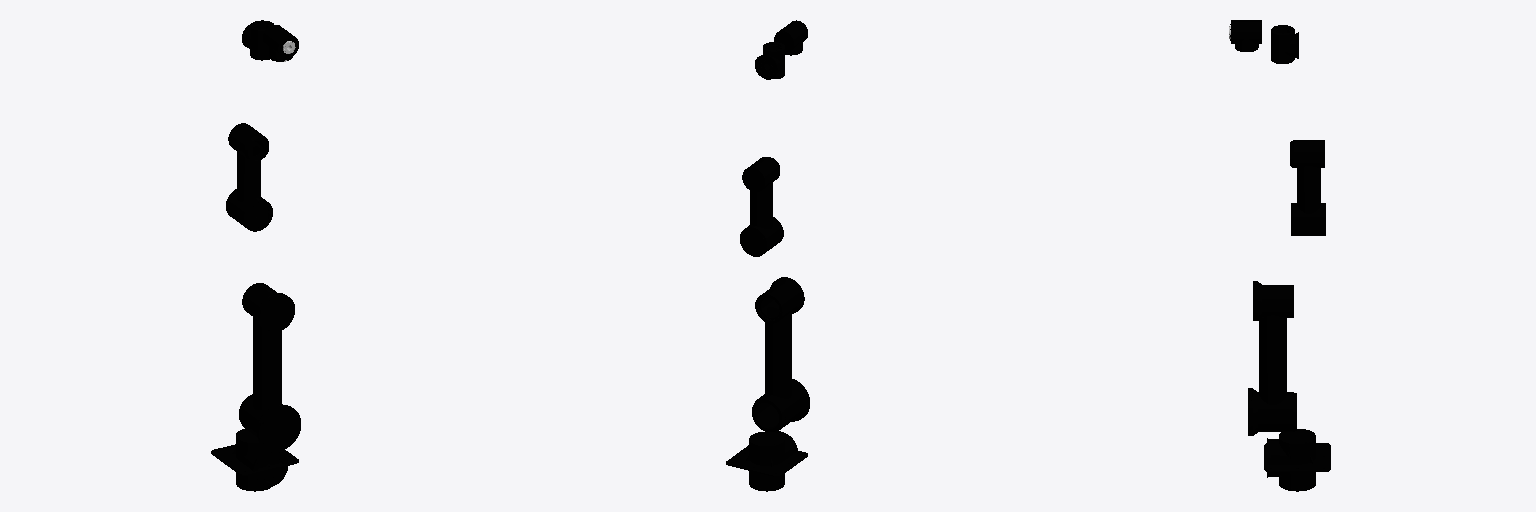
robot.urdf — arm1650:
<?xml version="1.0"?>
<!-- created with Phobos 1.0.1 "Capricious Choutengan" -->
  <robot name="arm1650">

    <link name="world"/>
    <joint name="world_fixed" type="fixed">
      <origin xyz="0.0 0.0 0.0" rpy="0 0 0"/>
      <parent link="world"/>
      <child link="Base_link"/>
    </joint>


    <link name="tool"/>

    <joint name="tool_frame" type="fixed">
      <origin xyz="0.0 0.0 0.0" rpy="1.57 0 0"/>
      <parent link="Link6"/>
      <child link="tool"/>
    </joint>

    <link name="Base_link">
      <inertial>
        <origin xyz="0 0 0" rpy="0 0 0"/>
        <mass value="4.021"/>
        <inertia ixx="0.01299" ixy="0" ixz="0" iyy="0.01299" iyz="0" izz="0.02208"/>
      </inertial>
      <visual name="base_link">
        <origin xyz="0 0 0" rpy="0 0 0"/>
        <geometry>
          <mesh filename="package://arm1650_description/resource/meshes/visual/base_link.dae" scale="1.0 1.0 1.0"/>
        </geometry>
      </visual>
      <collision name="base_link">
        <origin xyz="0 0 0" rpy="0 0 0"/>
        <geometry>
          <mesh filename="package://arm1650_description/resource/meshes/collision/Base.stl" scale="1.0 1.0 1.0"/>
        </geometry>
      </collision>
    </link>

    <link name="Link3">
      <inertial>
        <origin xyz="0 0 0" rpy="0 0 0"/>
        <mass value="2.311"/>
        <inertia ixx="0.03241" ixy="0" ixz="0" iyy="0.03123" iyz="0" izz="0.00438"/>
      </inertial>
      <visual name="forearm_link">
        <origin xyz="0 0 0" rpy="1.5708 0 0"/>
        <geometry>
          <mesh filename="package://arm1650_description/resource/meshes/visual/forearm_link.dae" scale="1.0 1.0 1.0"/>
        </geometry>
      </visual>
      <collision name="forearm_link">
        <origin xyz="0 0 0.0" rpy="1.5708 0 0"/>
        <geometry>
          <mesh filename="package://arm1650_description/resource/meshes/collision/Link3.stl" scale="1.0 1.0 1.0"/>
        </geometry>
      </collision>
    </link>

    <link name="Link1">
      <inertial>
        <origin xyz="0 0 0" rpy="0 0 0"/>
        <mass value="3.661"/>
        <inertia ixx="0.01843" ixy="0" ixz="0" iyy="0.01419" iyz="0" izz="0.01341"/>
      </inertial>
      <visual name="shoulder_link">
        <origin xyz="0 0 0" rpy="0 0 0"/>
        <geometry>
          <mesh filename="package://arm1650_description/resource/meshes/visual/shoulder_link.dae" scale="1.0 1.0 1.0"/>
        </geometry>
      </visual>
      <collision name="shoulder_link">
        <origin xyz="0 0 0" rpy="0 0 0"/>
        <geometry>
          <mesh filename="package://arm1650_description/resource/meshes/collision/Link1.stl" scale="1.0 1.0 1.0"/>
        </geometry>
      </collision>
    </link>

    <link name="Link2">
      <inertial>
        <origin xyz="0 0 0" rpy="0 0 0"/>
        <mass value="8.341"/>
        <inertia ixx="0.30658" ixy="0" ixz="0" iyy="0.2933" iyz="0" izz="0.03147"/>
      </inertial>
      <visual name="upperarm_link">
        <origin xyz="0 0 0" rpy="1.5708 0 0"/>
        <geometry>
          <mesh filename="package://arm1650_description/resource/meshes/visual/upperarm_link.dae" scale="1.0 1.0 1.0"/>
        </geometry>
      </visual>
      <collision name="upperarm_link">
        <origin xyz="0 0 0" rpy="1.5708 0 0"/>
        <geometry>
          <mesh filename="package://arm1650_description/resource/meshes/collision/Link2.stl" scale="1.0 1.0 1.0"/>
        </geometry>
      </collision>
    </link>

    <link name="Link4">
      <inertial>
        <origin xyz="0 0 0" rpy="0 0 0"/>
        <mass value="1.291"/>
        <inertia ixx="0.0025" ixy="0" ixz="0" iyy="0.00208" iyz="0" izz="0.00177"/>
      </inertial>
      <visual name="wrist1_link">
        <origin xyz="0 0 0" rpy="1.5708 0 0"/>
        <geometry>
          <mesh filename="package://arm1650_description/resource/meshes/visual/wrist1_link.dae" scale="1.0 1.0 1.0"/>
        </geometry>
      </visual>
      <collision name="wrist1_link">
        <origin xyz="0 0 0" rpy="1.5708 0 0"/>
        <geometry>
          <mesh filename="package://arm1650_description/resource/meshes/collision/Link4.stl" scale="1.0 1.0 1.0"/>
        </geometry>
      </collision>
    </link>

    <link name="Link5">
      <inertial>
        <origin xyz="0 0 0" rpy="0 0 0"/>
        <mass value="1.291"/>
        <inertia ixx="0.0025" ixy="0" ixz="0" iyy="0.00208" iyz="0" izz="0.00177"/>
      </inertial>
      <visual name="wrist2_link">
        <origin xyz="0 0 0" rpy="0 0 0"/>
        <geometry>
          <mesh filename="package://arm1650_description/resource/meshes/visual/wrist2_link.dae" scale="1.0 1.0 1.0"/>
        </geometry>
      </visual>
      <collision name="wrist2_link">
        <origin xyz="0 0 0" rpy="0 0 0"/>
        <geometry>
          <mesh filename="package://arm1650_description/resource/meshes/collision/Link5.stl" scale="1.0 1.0 1.0"/>
        </geometry>
      </collision>
    </link>

    <link name="Link6">
      <inertial>
        <origin xyz="0 0 0" rpy="0 0 0"/>
        <mass value="0.001"/>
        <inertia ixx="0.001" ixy="0" ixz="0" iyy="0.001" iyz="0" izz="0.001"/>
      </inertial>
      <visual name="wrist3_link">
        <origin xyz="0 0 0" rpy="0 0 0"/>
        <geometry>
          <mesh filename="package://arm1650_description/resource/meshes/visual/wrist3_link.dae" scale="1.0 1.0 1.0"/>
        </geometry>
      </visual>
      <collision name="wrist3_link">
        <origin xyz="0 0 0" rpy="0 0 0"/>
        <geometry>
          <mesh filename="package://arm1650_description/resource/meshes/collision/Link6.stl" scale="1.0 1.0 1.0"/>
        </geometry>
      </collision>
    </link>



    <joint name="Joint1" type="revolute">
      <origin xyz="0 0 0" rpy="0 0 0"/>
      <parent link="Base_link"/>
      <child link="Link1"/>
      <axis xyz="0 0 1.0"/>
      <limit lower="-3.14" upper="3.14" effort="0" velocity="0"/>
    </joint>

    <joint name="Joint2" type="revolute">
      <origin xyz="0 0 0.190" rpy="-1.5708 0 0"/>
      <parent link="Link1"/>
      <child link="Link2"/>
      <axis xyz="0 0 1.0"/>
      <limit lower="-3.14" upper="3.14" effort="0" velocity="0"/>
    </joint>


    <joint name="Joint3" type="revolute">
      <origin xyz="0 -0.8 0" rpy="0 0 0"/>
      <parent link="Link2"/>
      <child link="Link3"/>
      <axis xyz="0 0 1.0"/>
      <limit lower="-3.14" upper="3.14" effort="0" velocity="0"/>
    </joint>

    <joint name="Joint4" type="revolute">
      <origin xyz="0 -0.72 0" rpy="0 0 0"/>
      <parent link="Link3"/>
      <child link="Link4"/>
      <axis xyz="0 0 1.0"/>
      <limit lower="-3.14" upper="3.14" effort="0" velocity="0"/>
    </joint>

    <joint name="Joint5" type="revolute">
      <origin xyz="0 0 -0.191" rpy="1.5708 0 0"/>
      <parent link="Link4"/>
      <child link="Link5"/>
      <axis xyz="0 0 1.0"/>
      <limit lower="-3.14" upper="3.14" effort="0" velocity="0"/>
    </joint>

    <joint name="Joint6" type="revolute">
      <origin xyz="0 -0.069 0.130" rpy="0 0 0"/>
      <parent link="Link5"/>
      <child link="Link6"/>
      <axis xyz="0 1.0 0"/>
      <limit lower="-3.14" upper="3.14" effort="0" velocity="0"/>
    </joint>

  </robot>

--- What the picture shows (computed from the rendered views, not written in the file) ---
The picture shows the robot from 3 angles, left to right: view 1: azimuth 30°, elevation 25°; view 2: azimuth 150°, elevation 25°; view 3: azimuth 270°, elevation 25°; orthographic projection.
Model arm1650 with 9 links and 8 joints (6 revolute, 2 fixed), rooted at world, posed all joints at 0.
Visible links, largest first — view 1: Link2, Link3, Link1, Link5, Base_link, Link4; view 2: Link2, Link3, Link1, Base_link, Link4, Link5; view 3: Link2, Link3, Link1, Link4, Link5, Base_link.
Link boxes in pixels (x1,y1,x2,y2): Link2: [239, 283, 300, 451]; Link3: [226, 123, 272, 231]; Link1: [236, 429, 287, 491]; Link5: [263, 25, 298, 61]; Base_link: [211, 444, 298, 475]; Link4: [242, 20, 273, 60]; Link2: [752, 277, 809, 431]; Link3: [740, 157, 783, 256]; Link1: [749, 431, 797, 491]; Base_link: [726, 445, 807, 476]; Link4: [755, 42, 784, 79]; Link5: [774, 20, 807, 55]; Link2: [1248, 281, 1296, 435]; Link3: [1290, 140, 1325, 235]; Link1: [1267, 429, 1315, 491]; Link4: [1271, 25, 1298, 63]; Link5: [1229, 20, 1261, 51]; Base_link: [1264, 443, 1330, 471].
Size in the robot's own frame: 0.25 by 0.3808 by 1.92 metres.
Meshes: 7 distinct files referenced, 6 mesh visuals loaded (6 Collada DAE); not drawn: 1 (reference not matched to a file when rendering).
